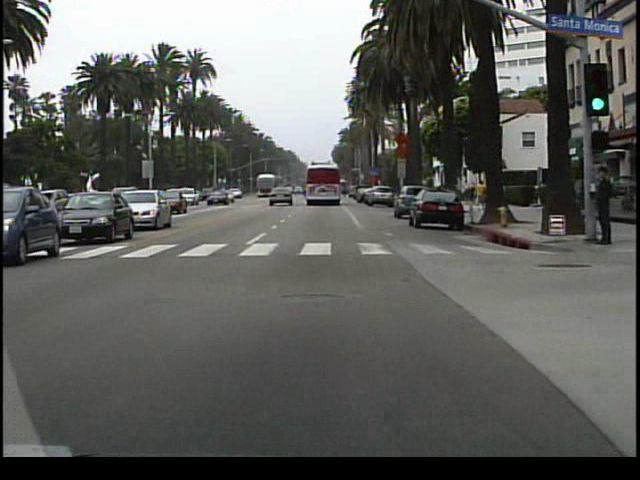person: (588, 157, 616, 247)
